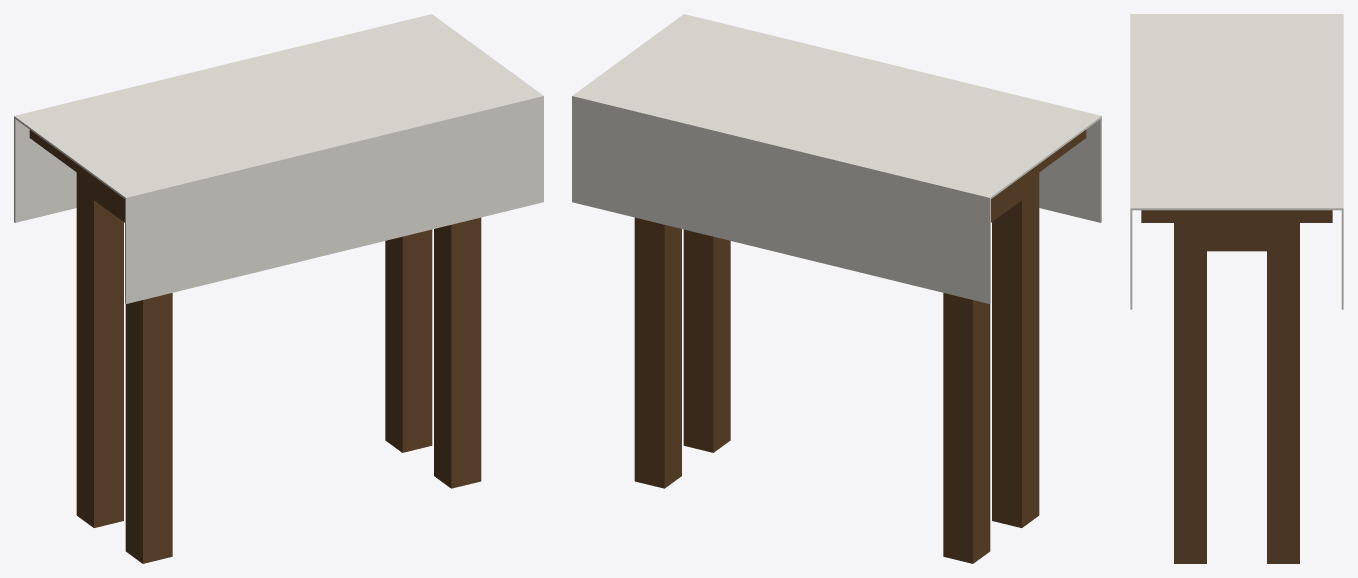
The picture shows the model from 3 angles, left to right: view 1: azimuth 30°, elevation 25°; view 2: azimuth 150°, elevation 25°; view 3: azimuth 270°, elevation 25°; orthographic projection. The views are drawn at different scales.
Visible parts, largest first — view 1: parametric-variant-table-1st-pub-9b6f673e63e251eb3e94; view 2: parametric-variant-table-1st-pub-9b6f673e63e251eb3e94; view 3: parametric-variant-table-1st-pub-9b6f673e63e251eb3e94.
Part boxes in pixels (x1=…): parametric-variant-table-1st-pub-9b6f673e63e251eb3e94: x1=14, y1=14, x2=543, y2=563; parametric-variant-table-1st-pub-9b6f673e63e251eb3e94: x1=572, y1=14, x2=1101, y2=563; parametric-variant-table-1st-pub-9b6f673e63e251eb3e94: x1=1130, y1=14, x2=1343, y2=563.
Bounding box in the file's own units: 0.84 × 0.754 × 0.39.
